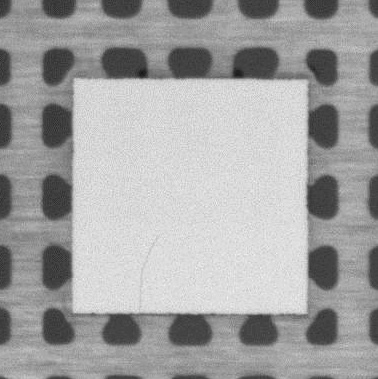DIE_CRACK: (138, 235, 159, 308)
